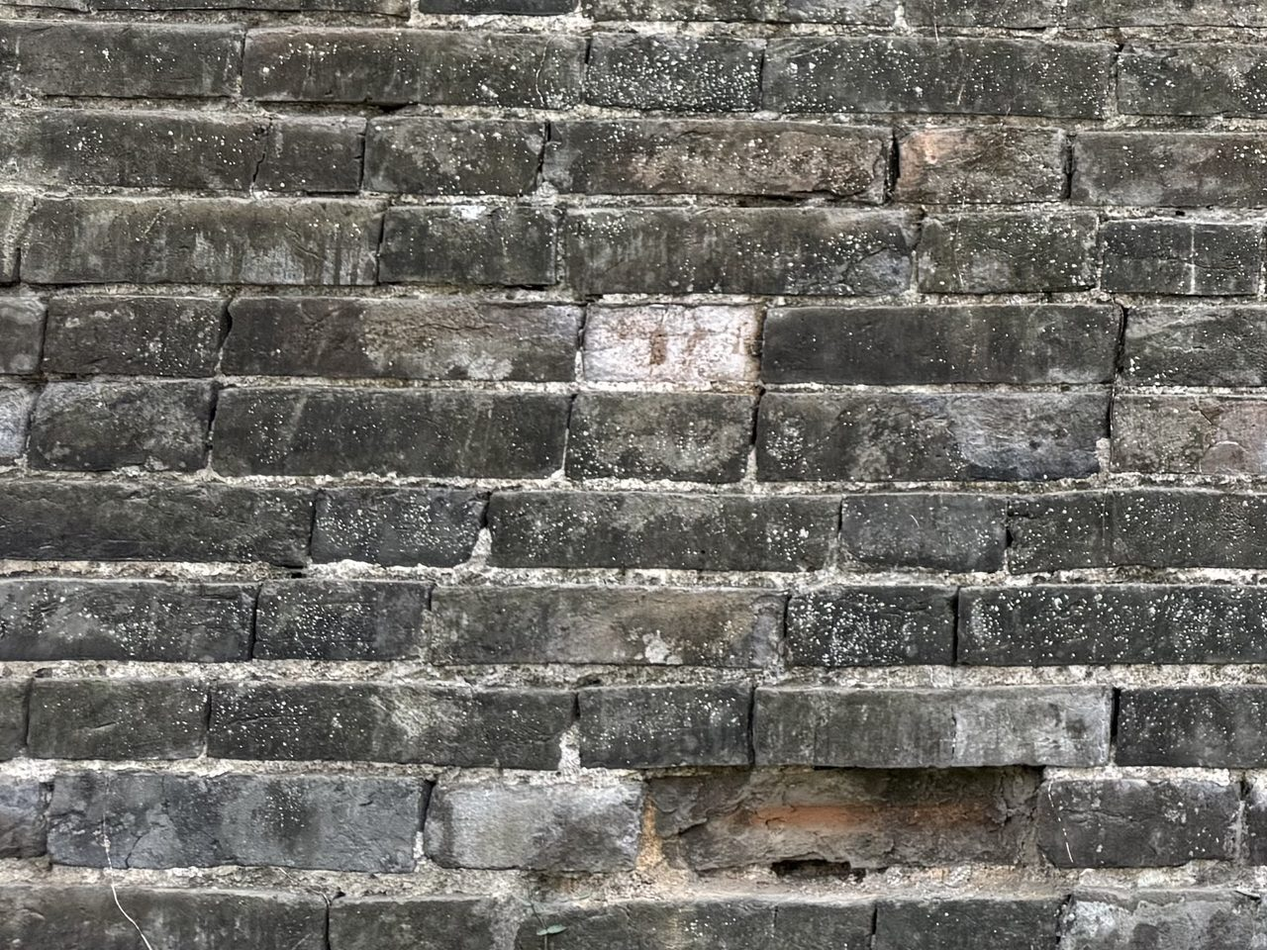brick_loss: (635, 770, 1048, 889)
deadmood: (87, 815, 170, 950)
